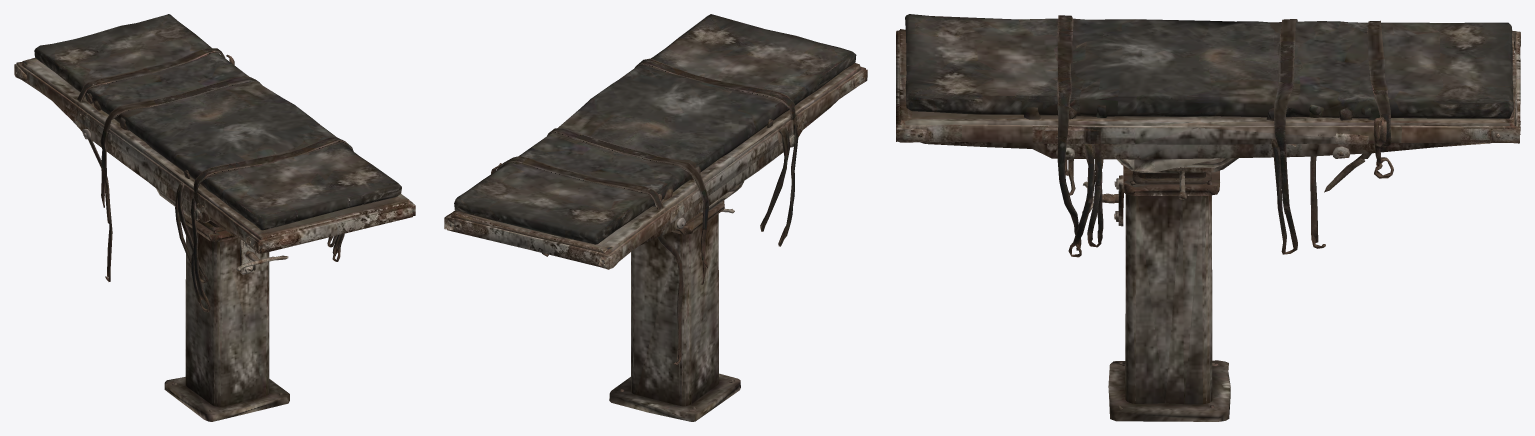
The model's file is op_table.glb.
3 renders of one model, left to right at view 1: azimuth 30°, elevation 25°; view 2: azimuth 150°, elevation 25°; view 3: azimuth 270°, elevation 25°, orthographic. The views are drawn at different scales.
Bounding box in the file's own units: 0.4028 × 0.6099 × 1.
1 material, 1 textured.
